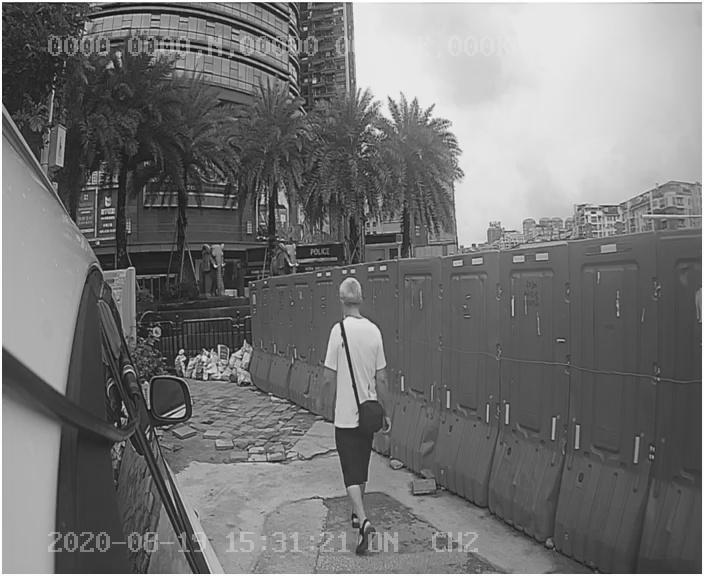person: (307, 276, 418, 548)
